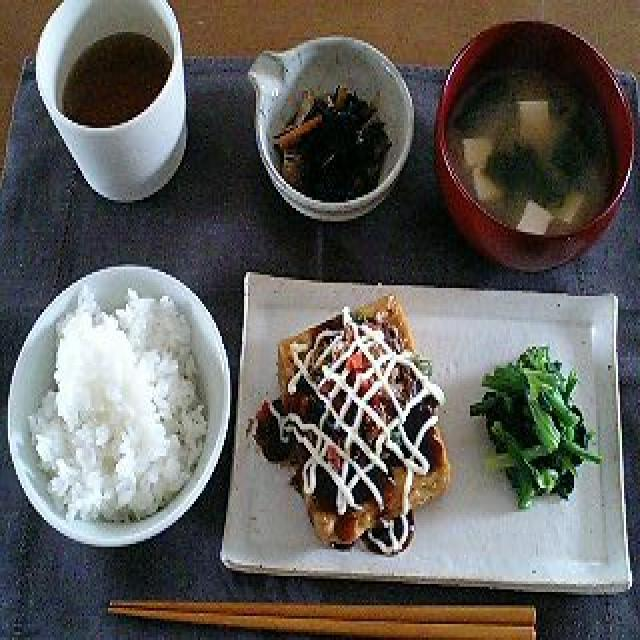Rice: (20, 274, 214, 516)
